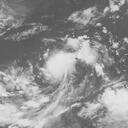cyclone: (40, 38, 101, 97)
